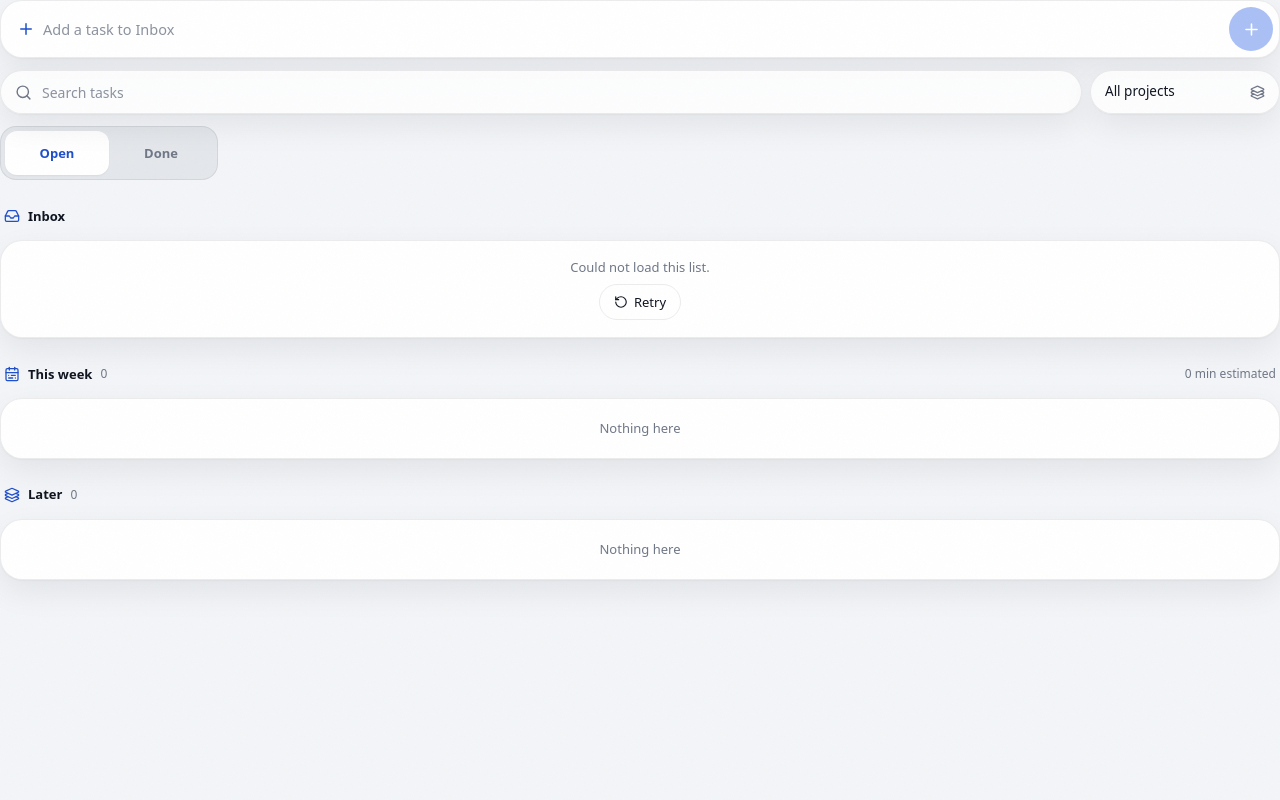
it: TasksPage V2 › shows a section error and retries it
Expected: the text "Could not load this list." is shown, [570, 258, 710, 276]
Click the button "Retry".
click(640, 302)  # box [599, 284, 681, 320]
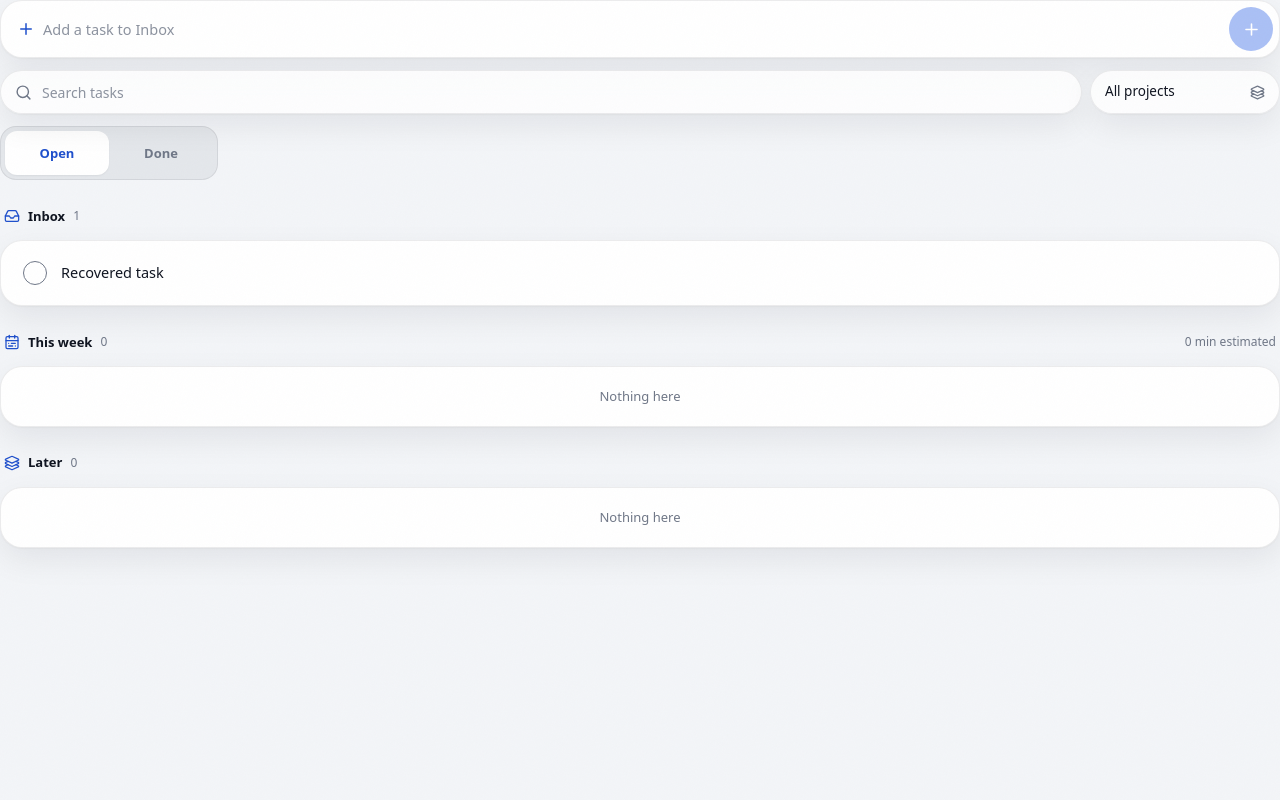
Result: the text "Recovered task" is shown at [61, 262, 164, 282]
